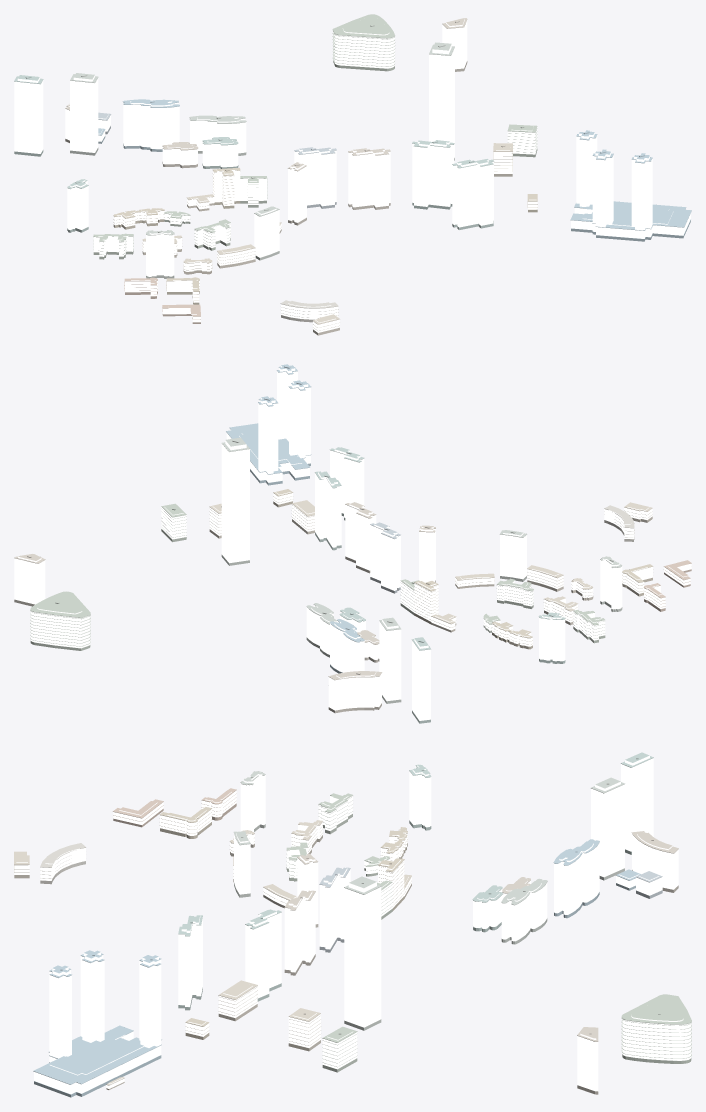
Rendered from buildings--5_1-fine.glb.
The picture shows the model from 3 angles, top to bottom: view 1: azimuth 30°, elevation 25°; view 2: azimuth 150°, elevation 25°; view 3: azimuth 270°, elevation 25°; orthographic projection. The views are drawn at different scales.
Parts seen in each view (by area): view 1: block_-5_1_office, block_-5_1_roof, block_-5_1_residential, block_-5_1_darkglass, block_-5_1_concrete, block_-5_1_steel; view 2: block_-5_1_office, block_-5_1_roof, block_-5_1_residential, block_-5_1_darkglass, block_-5_1_concrete, block_-5_1_steel; view 3: block_-5_1_office, block_-5_1_roof, block_-5_1_residential, block_-5_1_darkglass, block_-5_1_concrete, block_-5_1_steel.
Boxes of the visible parts, box(x1,y1,x2,y2) form: block_-5_1_office: box(14, 19, 690, 276); block_-5_1_roof: box(14, 14, 691, 328); block_-5_1_residential: box(93, 28, 537, 332); block_-5_1_darkglass: box(14, 61, 690, 335); block_-5_1_concrete: box(93, 31, 537, 330); block_-5_1_steel: box(14, 24, 689, 235); block_-5_1_office: box(14, 366, 622, 720); block_-5_1_roof: box(14, 364, 691, 710); block_-5_1_residential: box(30, 492, 691, 648); block_-5_1_darkglass: box(14, 463, 691, 723); block_-5_1_concrete: box(30, 492, 691, 646); block_-5_1_steel: box(14, 370, 621, 680); block_-5_1_office: box(34, 755, 678, 1094); block_-5_1_roof: box(14, 752, 691, 1094); block_-5_1_residential: box(14, 790, 691, 1088); block_-5_1_darkglass: box(14, 803, 691, 1097); block_-5_1_concrete: box(14, 790, 690, 1085); block_-5_1_steel: box(33, 757, 678, 1084).
Bounding box in the file's own units: 689 × 155 × 673.
